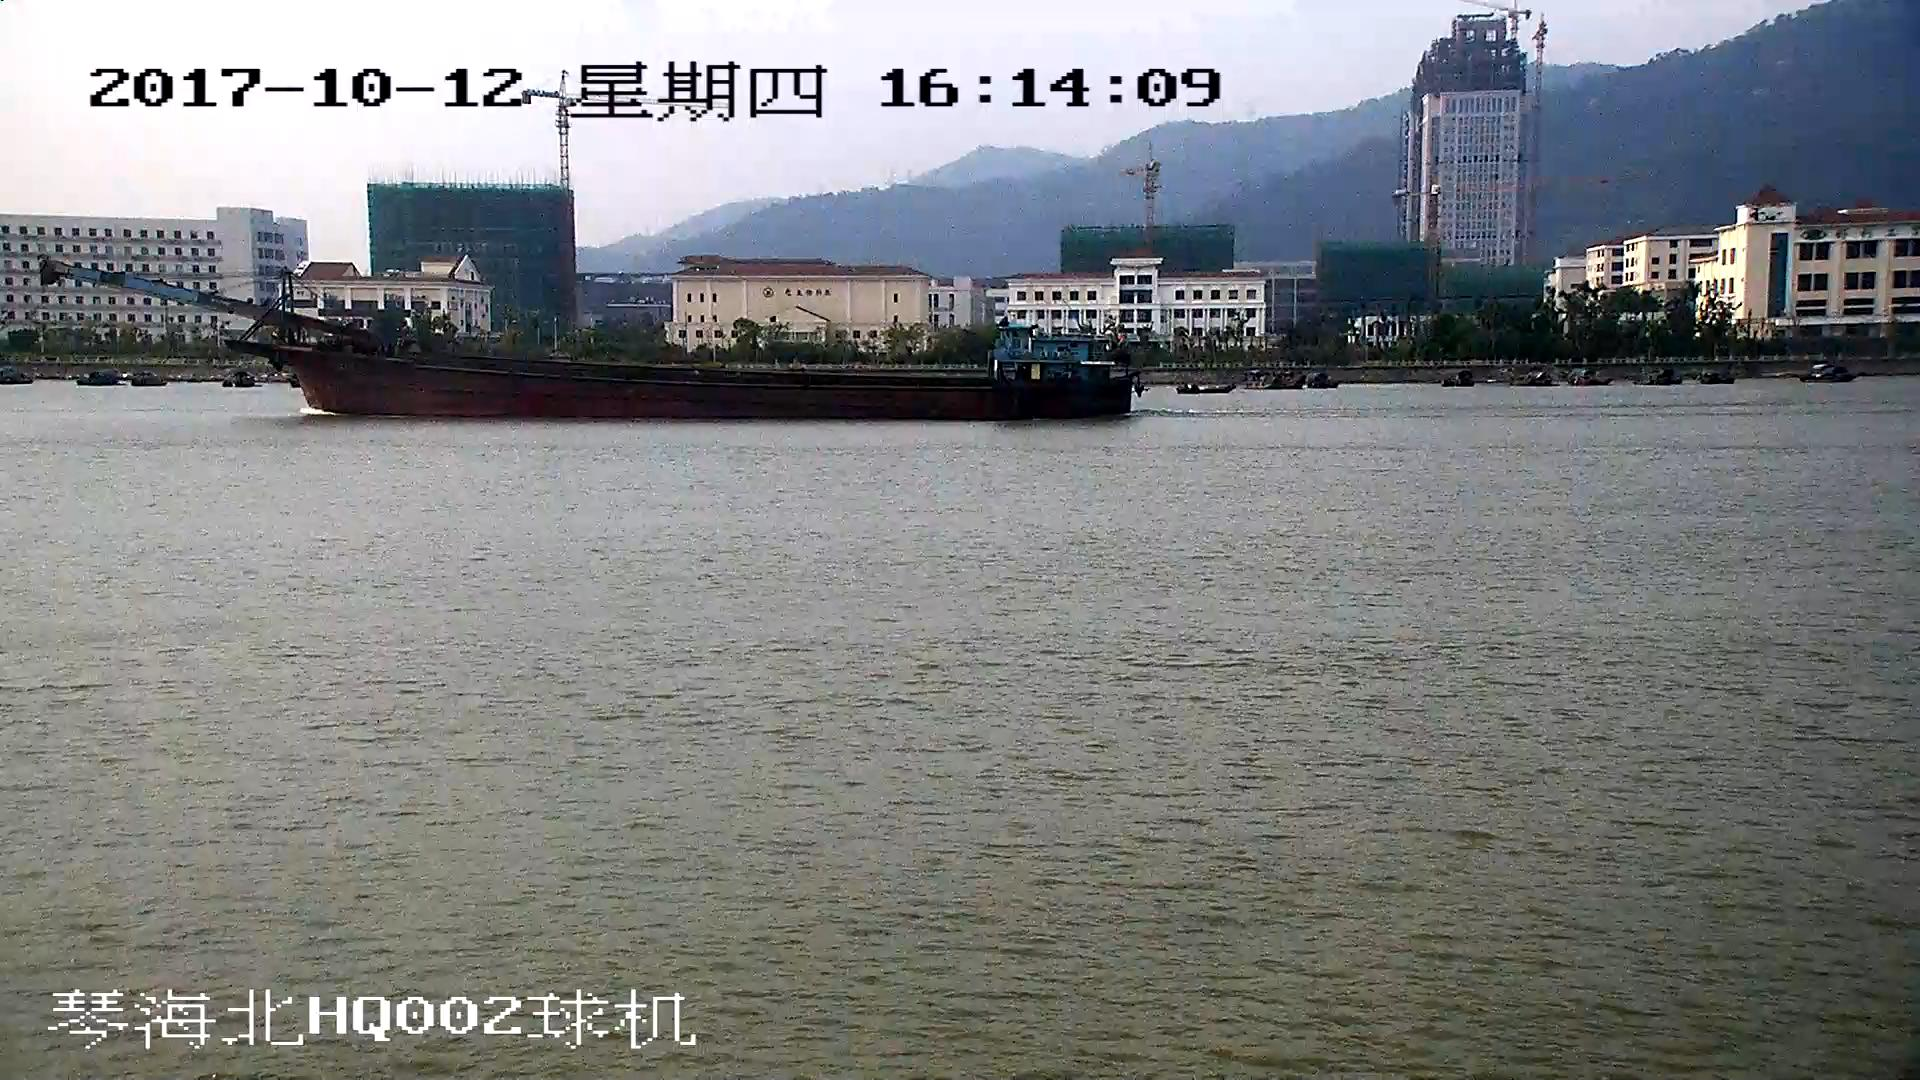bulk cargo carrier: (44, 256, 1137, 419)
